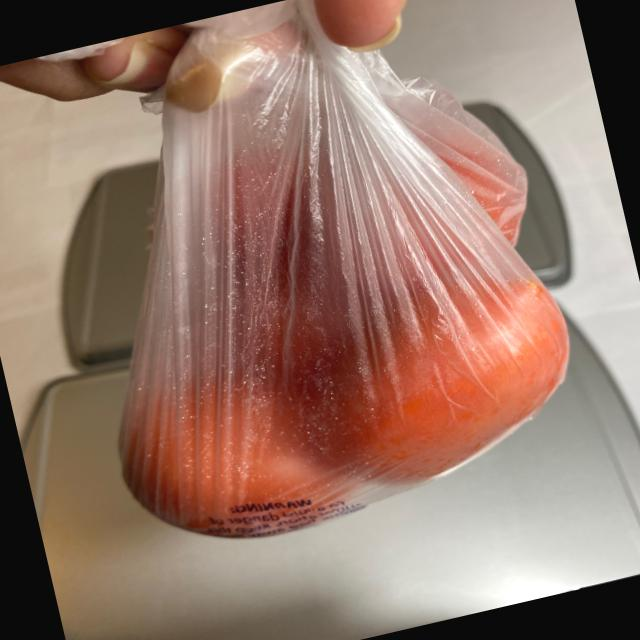tomato: (45, 79, 601, 562)
